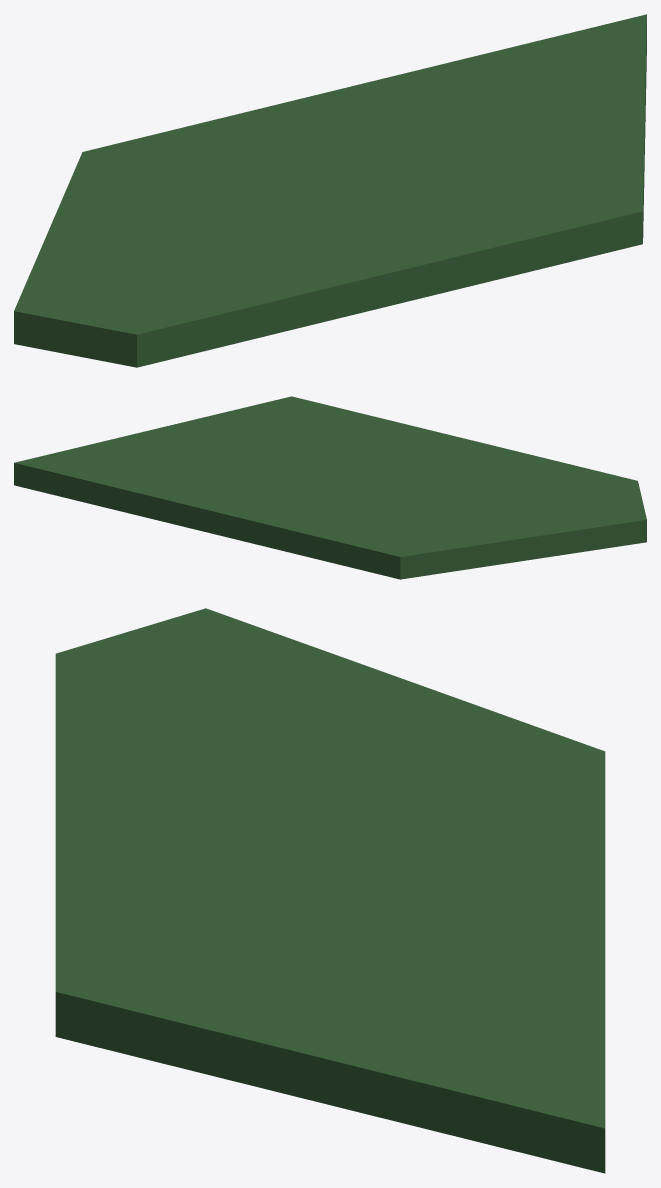
File: x_proval_00_69_1_rmstrd.fbx
3 renders of one model, top to bottom at view 1: azimuth 30°, elevation 25°; view 2: azimuth 150°, elevation 25°; view 3: azimuth 270°, elevation 25°, orthographic. The views are drawn at different scales.
Parts seen in each view (by area): view 1: x_proval_00_69_1_rmstrd1; view 2: x_proval_00_69_1_rmstrd1; view 3: x_proval_00_69_1_rmstrd1.
Part boxes in pixels (bbox=[...]): x_proval_00_69_1_rmstrd1: bbox=[14, 14, 646, 367]; x_proval_00_69_1_rmstrd1: bbox=[14, 396, 646, 579]; x_proval_00_69_1_rmstrd1: bbox=[55, 608, 605, 1173].
Size of the model in its own units: 4.95 by 0.2 by 2.21.
